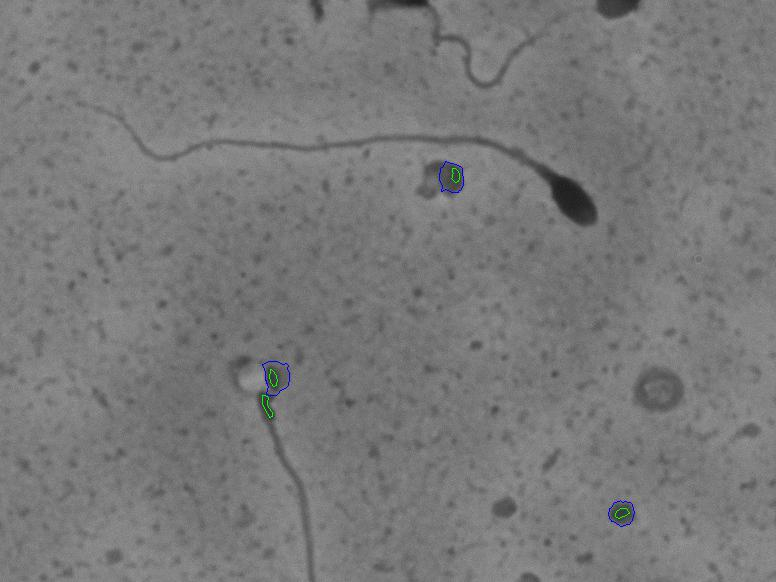Normal: (48, 87, 608, 237)
